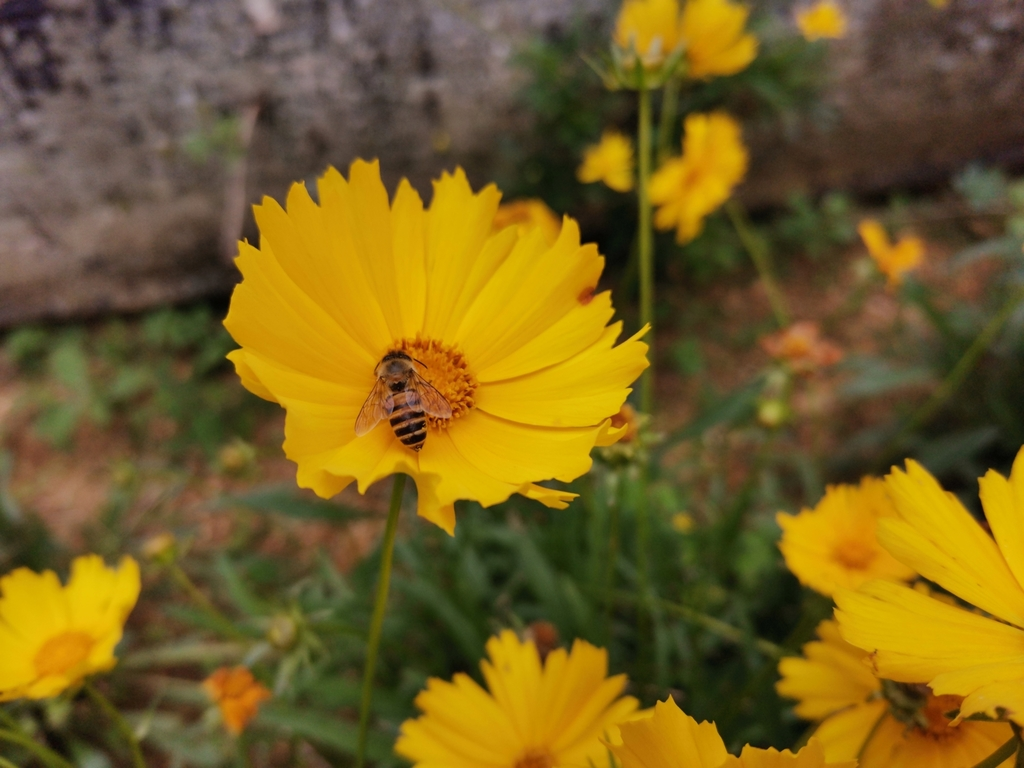not_bumblebee: (353, 351, 456, 457)
